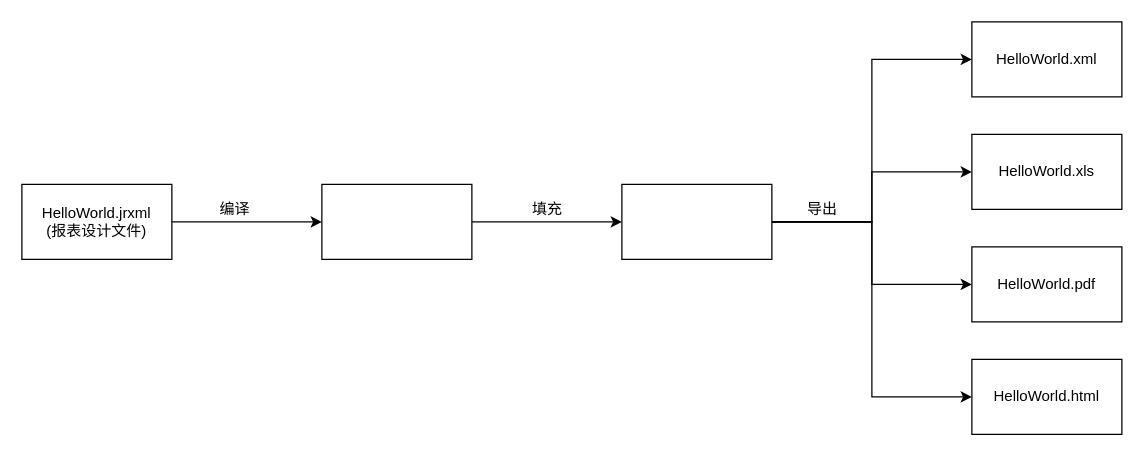
Some shapes in this 1144 by 456 pixel diagram are drawn without their labels. The centre of each missing label's shape, as x and y in pixels:
"HelloWorld.jasper (报表待填充文件)" belongs at [396,221].
"HelloWorld.jrprint (报表填充文件)" belongs at [696,221].
